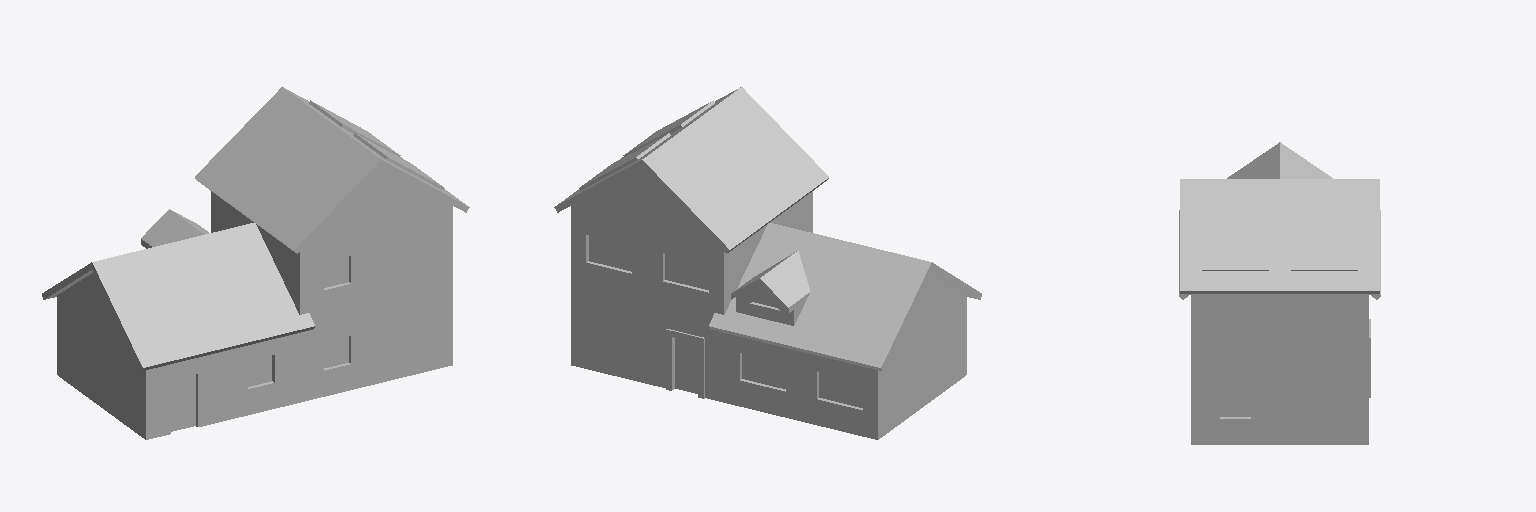
Rendered from city_house_long_b.obj.
The picture shows the model from 3 angles: view 1: azimuth 30°, elevation 25°; view 2: azimuth 150°, elevation 25°; view 3: azimuth 270°, elevation 25°; orthographic projection.
Parts seen in each view (by area): view 1: mergedBlocks; view 2: mergedBlocks; view 3: mergedBlocks.
Boxes of the visible parts, x1,y1,x2,y2 form: mergedBlocks: [42, 87, 469, 439]; mergedBlocks: [554, 87, 981, 439]; mergedBlocks: [1179, 142, 1380, 444].
Bounding box in the file's own units: 1.71 × 1.14 × 0.916.